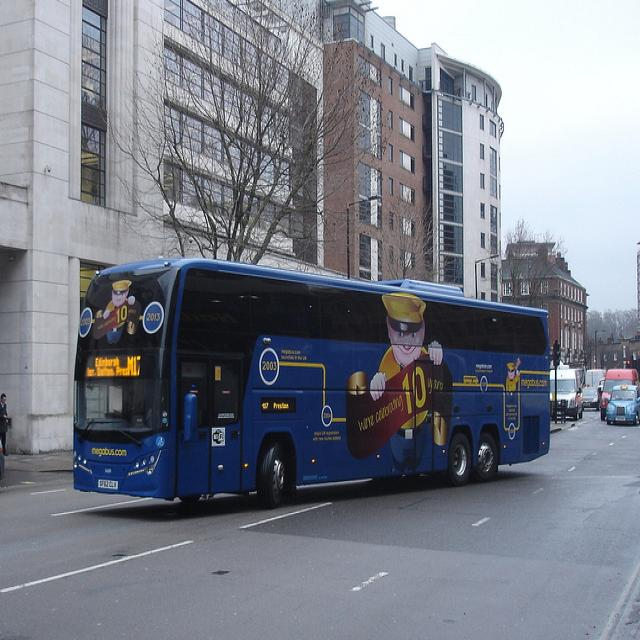Vehicle: (71, 262, 552, 509), (598, 368, 640, 422), (550, 368, 585, 420), (606, 382, 640, 428), (582, 388, 603, 410), (598, 377, 607, 392)
